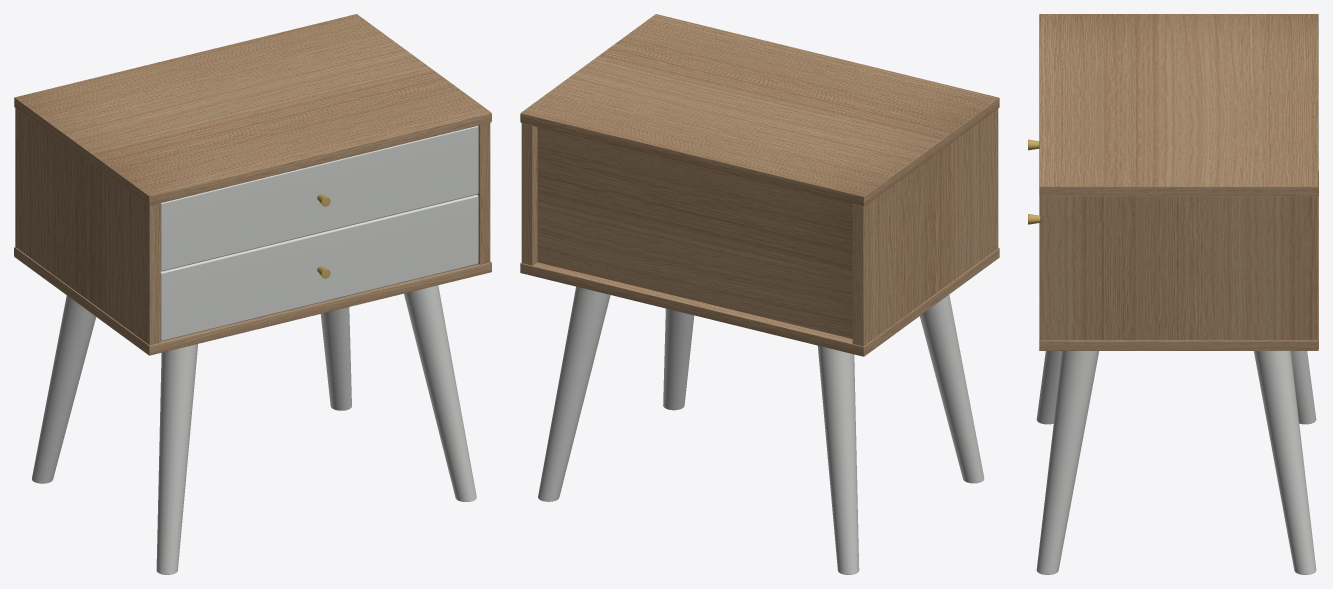
File: B07QD6TXWS.glb
The picture shows the model from 3 angles, left to right: view 1: azimuth 30°, elevation 25°; view 2: azimuth 150°, elevation 25°; view 3: azimuth 270°, elevation 25°; orthographic projection. The views are drawn at different scales.
Visible parts, largest first — view 1: RootNode; view 2: RootNode; view 3: RootNode.
Part boxes in pixels (x1=…): RootNode: x1=14, y1=14, x2=491, y2=574; RootNode: x1=520, y1=14, x2=999, y2=574; RootNode: x1=1028, y1=14, x2=1318, y2=574.
Size of the model in its own units: 0.5714 by 0.6096 by 0.4068.
Materials: 1 (1 with a texture image).
